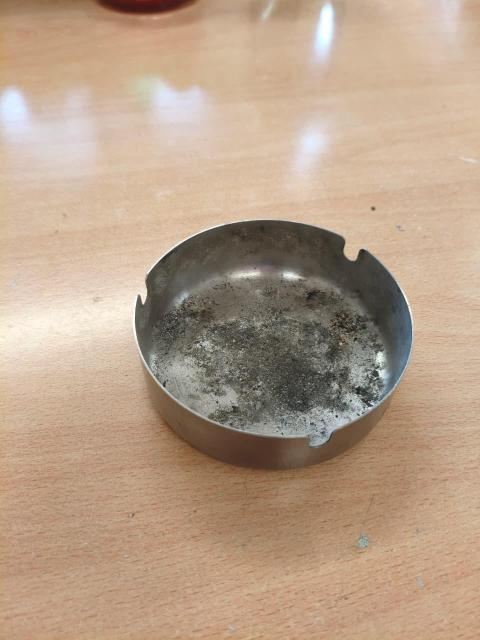Metal: (125, 215, 422, 465)
